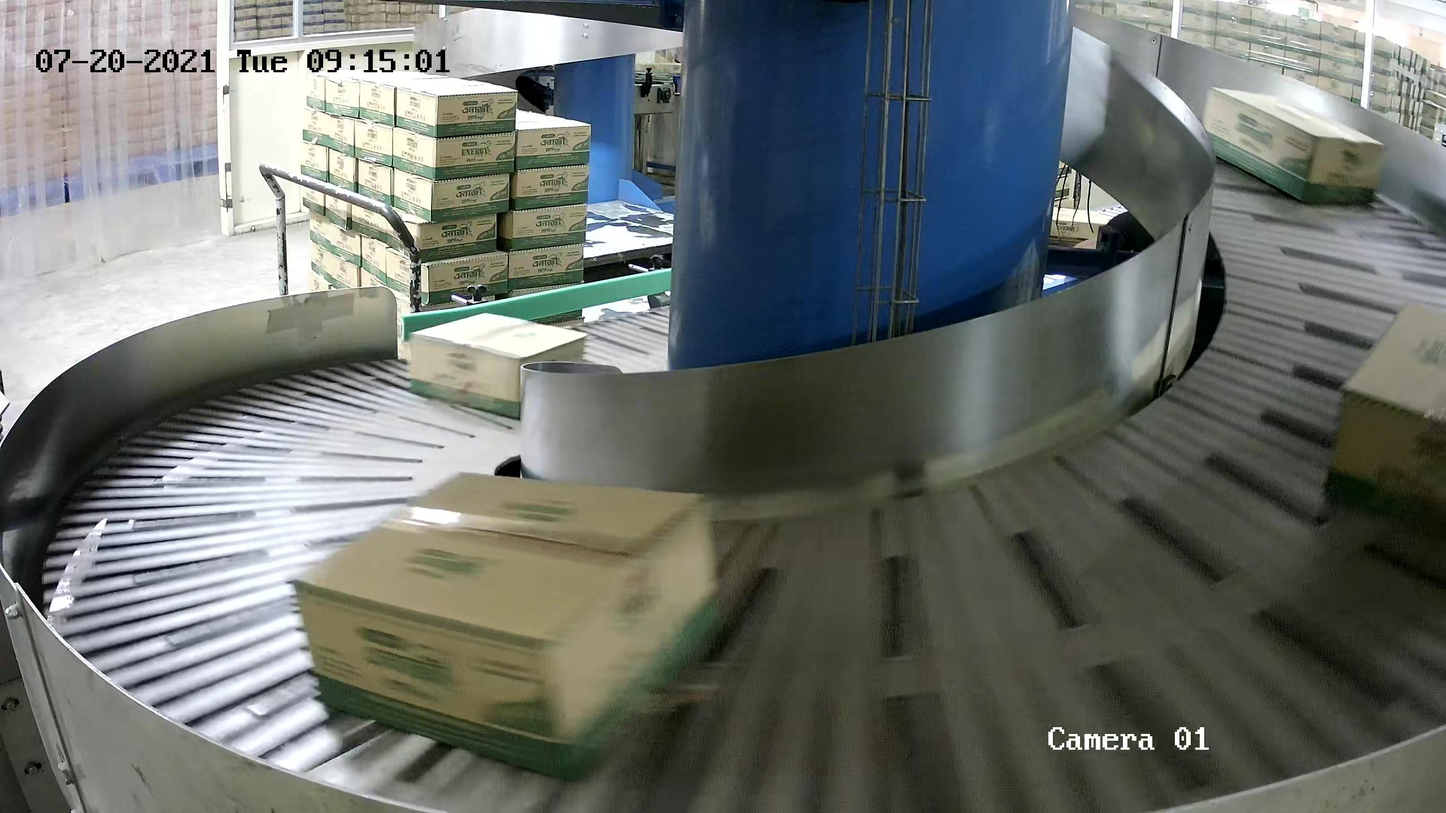Box: (286, 469, 725, 785), (1323, 298, 1446, 536), (1202, 85, 1385, 204), (408, 311, 589, 420)
